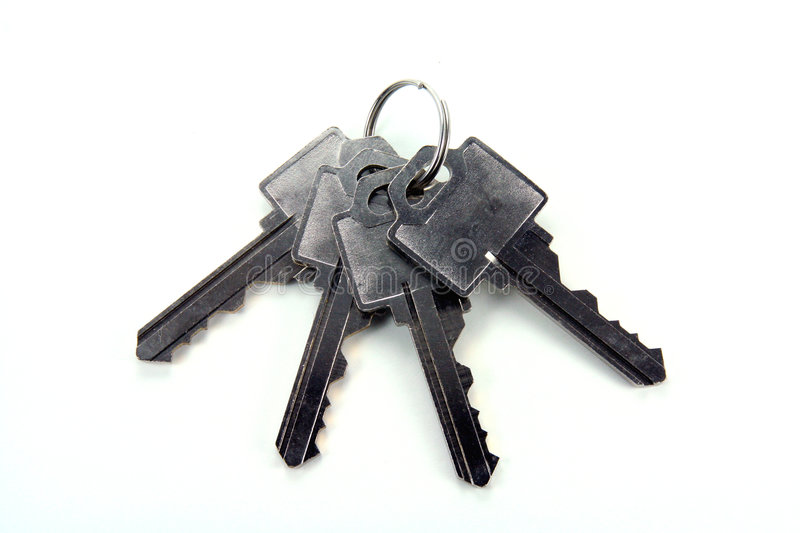key: (132, 68, 673, 487)
